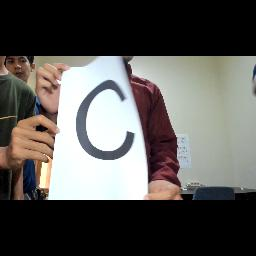c: (68, 80, 138, 160)
